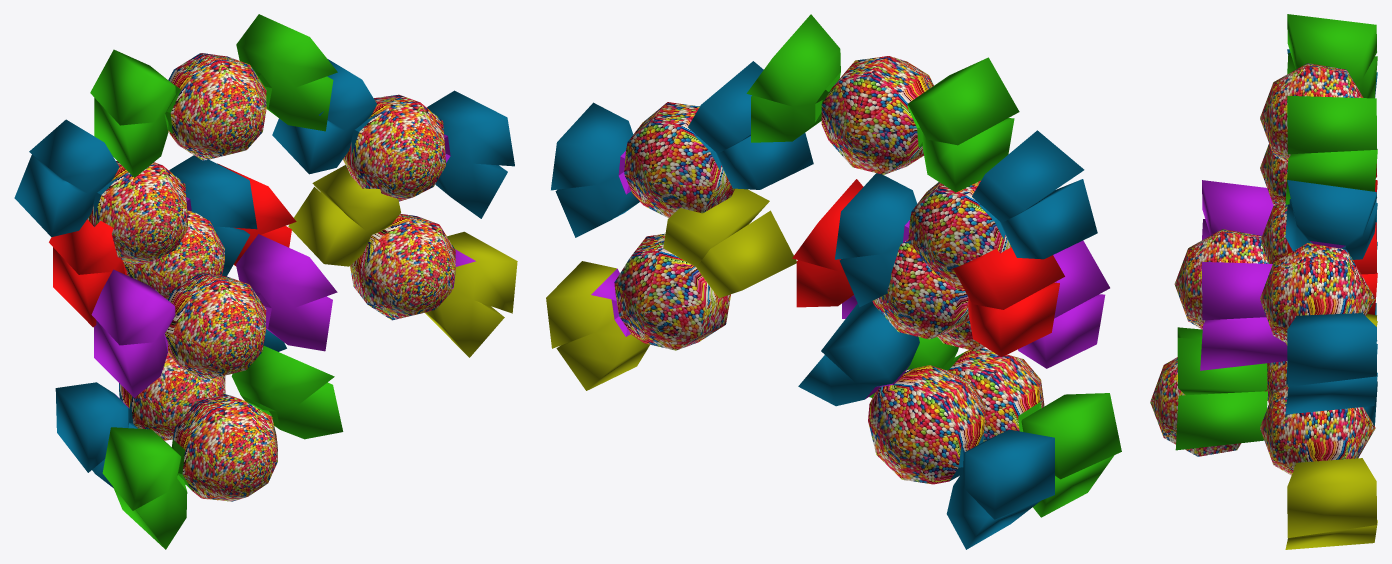
The model's file is candy.FBX.
3 renders of one model, left to right at view 1: azimuth 30°, elevation 25°; view 2: azimuth 150°, elevation 25°; view 3: azimuth 270°, elevation 25°, orthographic. The views are drawn at different scales.
Visible parts, largest first — view 1: Sphere001, Sphere005, Sphere008, Sphere002, Sphere006, Sphere007, Sphere004, Sphere003; view 2: Sphere005, Sphere003, Sphere002, Sphere006, Sphere007, Sphere004, Sphere008, Sphere001; view 3: Sphere006, Sphere005, Sphere001, Sphere002, Sphere008, Sphere004, Sphere007, Sphere003.
Part boxes in pixels (bbox=[...]): Sphere001: bbox=[91, 234, 337, 397]; Sphere005: bbox=[90, 14, 337, 177]; Sphere008: bbox=[102, 345, 343, 549]; Sphere002: bbox=[288, 165, 517, 357]; Sphere006: bbox=[272, 59, 514, 218]; Sphere007: bbox=[14, 119, 257, 276]; Sphere004: bbox=[49, 163, 296, 327]; Sphere003: bbox=[55, 329, 286, 487]; Sphere005: bbox=[746, 14, 1019, 192]; Sphere003: bbox=[798, 301, 1054, 549]; Sphere002: bbox=[546, 188, 796, 390]; Sphere006: bbox=[551, 61, 813, 237]; Sphere007: bbox=[835, 130, 1097, 307]; Sphere004: bbox=[792, 179, 1064, 357]; Sphere008: bbox=[869, 337, 1121, 517]; Sphere001: bbox=[842, 240, 1109, 368]; Sphere006: bbox=[1260, 180, 1377, 414]; Sphere005: bbox=[1260, 14, 1377, 204]; Sphere001: bbox=[1174, 180, 1287, 370]; Sphere002: bbox=[1260, 313, 1377, 549]; Sphere008: bbox=[1150, 327, 1267, 456]; Sphere004: bbox=[1261, 164, 1377, 314]; Sphere007: bbox=[1260, 49, 1377, 249]; Sphere003: bbox=[1264, 303, 1377, 425].
Bounding box in the file's own units: 102 × 88.92 × 41.47.
Materials: 6 (1 with a texture image).
